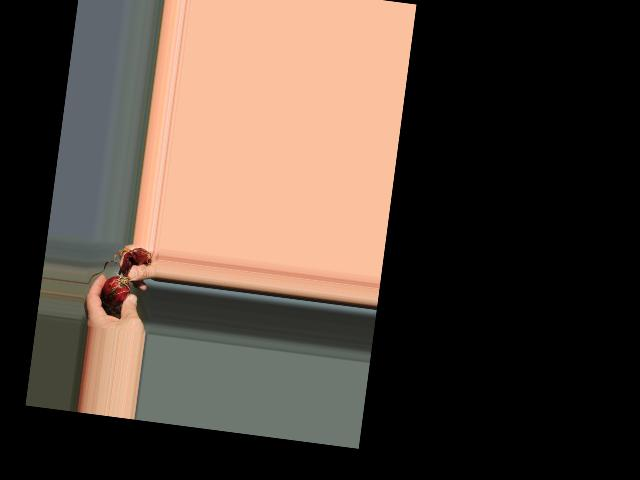onion: (101, 274, 132, 305)
